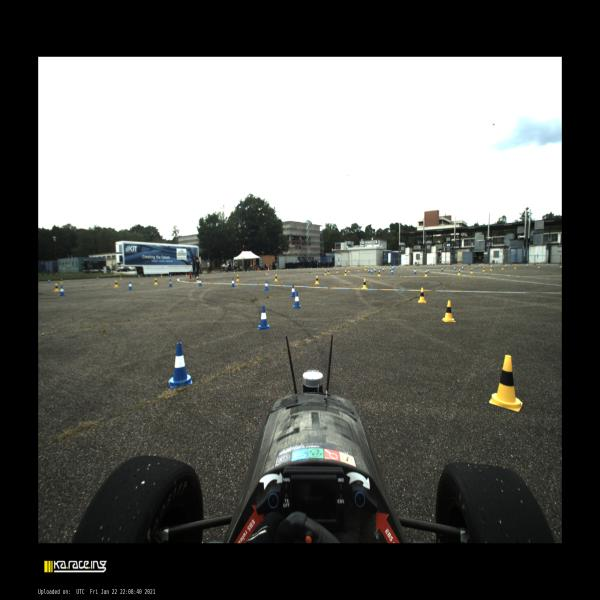blue_cone: (169, 343, 192, 388), (257, 306, 270, 330), (292, 292, 301, 308), (58, 285, 66, 296), (290, 284, 296, 297), (264, 280, 269, 290), (128, 281, 133, 290), (168, 278, 173, 286), (231, 278, 235, 287), (198, 278, 202, 286), (453, 266, 456, 271), (427, 268, 430, 273), (526, 262, 528, 268), (441, 266, 443, 272), (414, 268, 416, 274), (391, 269, 393, 275), (371, 268, 373, 274), (368, 268, 370, 274), (382, 267, 384, 272), (505, 264, 507, 268), (475, 265, 477, 269), (462, 266, 464, 270), (374, 268, 376, 272), (48, 279, 50, 283), (228, 270, 230, 274), (378, 264, 380, 268), (392, 266, 394, 270), (97, 277, 99, 280), (138, 275, 140, 278), (214, 271, 216, 274), (304, 267, 306, 270), (385, 264, 387, 267), (393, 266, 395, 269), (344, 265, 346, 268), (546, 263, 548, 266), (317, 267, 319, 269), (390, 267, 391, 271), (331, 266, 333, 268), (170, 274, 171, 277), (395, 265, 396, 268), (399, 265, 400, 268), (244, 270, 245, 272), (277, 268, 278, 270), (290, 268, 291, 270), (266, 268, 266, 271)
large_orange_cone: (258, 268, 259, 272), (268, 268, 269, 272)
yellow_cone: (489, 355, 522, 411), (442, 300, 455, 322), (418, 288, 426, 304), (362, 279, 368, 289), (54, 283, 59, 292), (114, 280, 119, 287), (315, 276, 319, 284), (236, 274, 240, 282), (457, 269, 461, 276), (424, 270, 428, 277), (154, 278, 158, 285), (274, 274, 278, 281), (377, 270, 381, 276), (196, 276, 199, 283), (344, 270, 347, 276), (336, 268, 339, 274), (470, 268, 473, 274), (324, 269, 327, 275), (357, 266, 360, 272), (327, 269, 330, 274), (537, 264, 540, 269), (501, 265, 504, 270), (483, 266, 485, 272), (347, 268, 350, 272), (60, 279, 63, 283), (514, 264, 516, 269), (490, 266, 492, 271), (202, 272, 204, 276), (120, 276, 122, 279), (160, 274, 162, 277), (186, 273, 188, 276), (365, 267, 367, 270), (560, 264, 562, 267), (234, 270, 235, 274), (247, 270, 249, 272), (287, 268, 289, 270), (373, 266, 375, 268), (346, 266, 348, 268), (276, 268, 277, 271), (299, 268, 300, 270), (311, 267, 312, 269), (334, 266, 335, 268), (260, 269, 260, 272)
